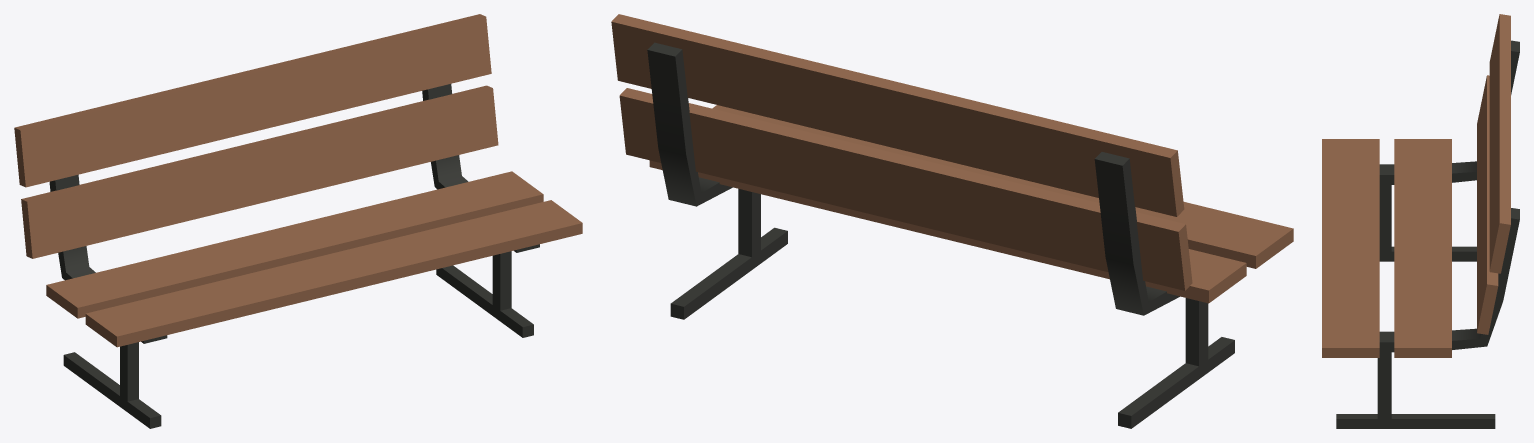
Rendered from Bench.fbx.
3 views of the same model, side by side, from view 1: azimuth 30°, elevation 25°; view 2: azimuth 150°, elevation 25°; view 3: azimuth 270°, elevation 25° (orthographic). The views are drawn at different scales.
Parts seen in each view (by area): view 1: Bench; view 2: Bench; view 3: Bench.
Part boxes in pixels (bbox=[...]): Bench: bbox=[14, 14, 582, 428]; Bench: bbox=[611, 14, 1293, 428]; Bench: bbox=[1322, 14, 1519, 428].
Bounding box in the file's own units: 200 × 100 × 80.
